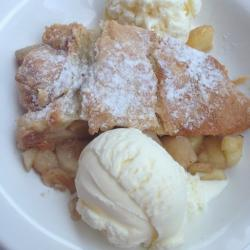apple_pie: (22, 24, 244, 183)
icecream: (69, 128, 203, 248)
